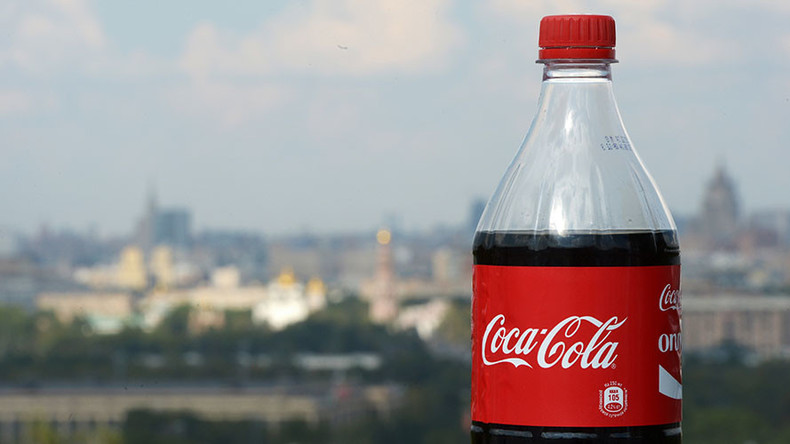coke: (477, 14, 686, 443)
